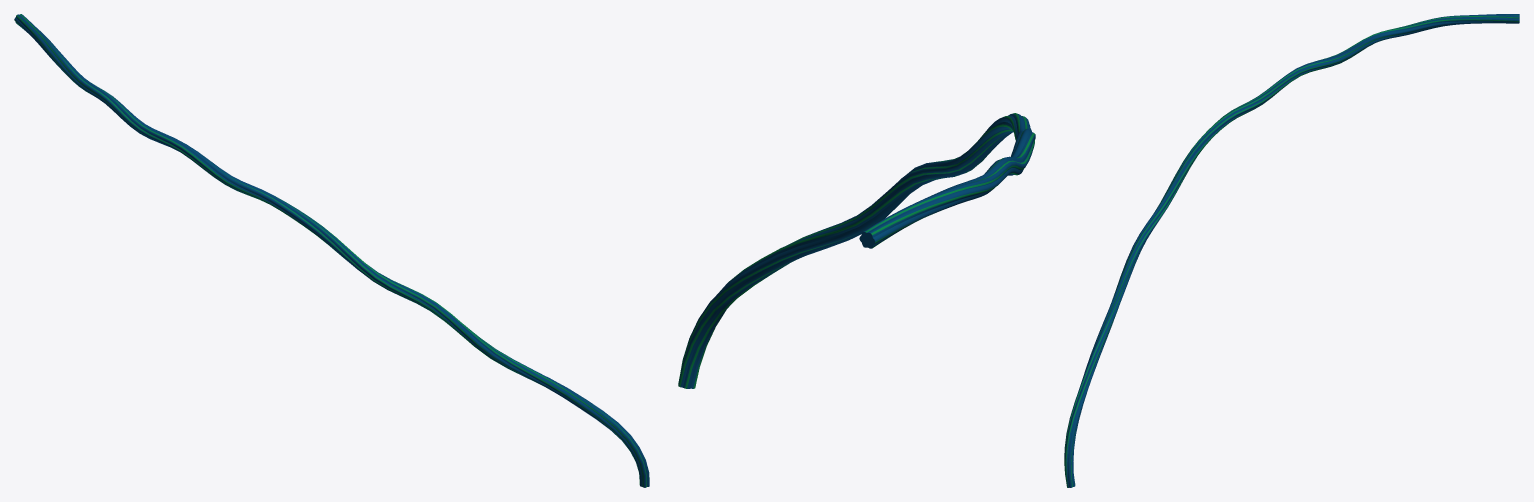
The model's file is cables 10.FBX.
3 renders of one model, left to right at view 1: azimuth 30°, elevation 25°; view 2: azimuth 150°, elevation 25°; view 3: azimuth 270°, elevation 25°, orthographic. The views are drawn at different scales.
Parts seen in each view (by area): view 1: Loft014; view 2: Loft014; view 3: Loft014.
Part boxes in pixels (<box>): Loft014: <box>14,14,649,487</box>; Loft014: <box>678,113,1035,388</box>; Loft014: <box>1064,14,1519,487</box>.
Bounding box in the file's own units: 678 × 631 × 818.
